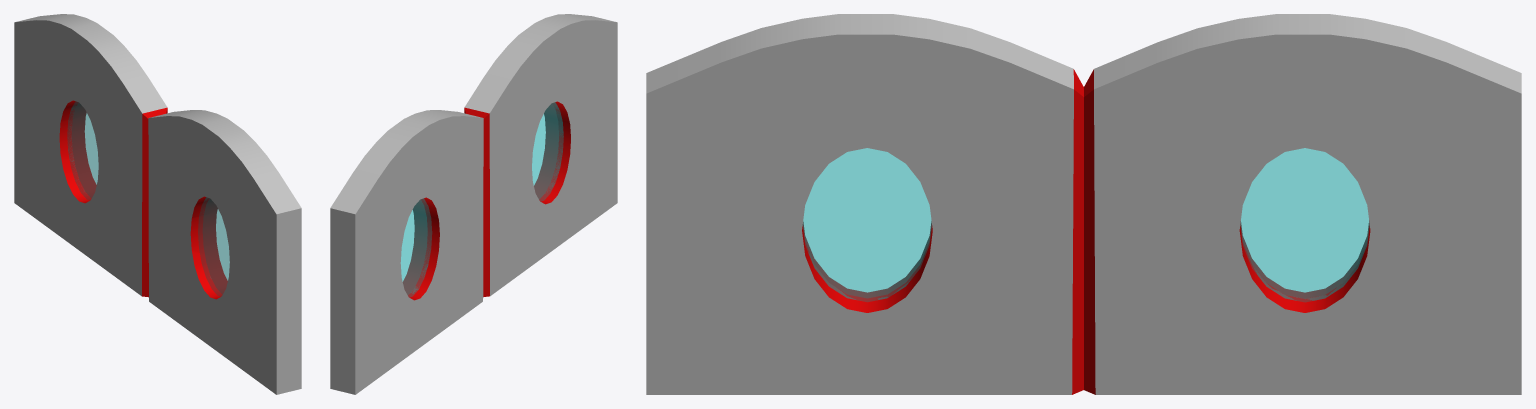
File: gate3.fbx
3 views of the same model, side by side, from view 1: azimuth 30°, elevation 25°; view 2: azimuth 150°, elevation 25°; view 3: azimuth 270°, elevation 25° (orthographic). The views are drawn at different scales.
Visible parts, largest first — view 1: polySurface1, polySurface2, pCylinder2, pCylinder1; view 2: polySurface2, polySurface1, pCylinder2, pCylinder1; view 3: polySurface2, polySurface1, pCylinder1, pCylinder2.
Boxes of the visible parts, bbox=[...] form: polySurface1: bbox=[148, 110, 301, 394]; polySurface2: bbox=[14, 14, 167, 297]; pCylinder2: bbox=[198, 197, 229, 296]; pCylinder1: bbox=[67, 102, 98, 199]; polySurface2: bbox=[330, 110, 483, 394]; polySurface1: bbox=[464, 14, 617, 296]; pCylinder2: bbox=[532, 102, 563, 201]; pCylinder1: bbox=[400, 198, 431, 297]; polySurface2: bbox=[1084, 14, 1521, 394]; polySurface1: bbox=[646, 14, 1083, 394]; pCylinder1: bbox=[1240, 148, 1369, 301]; pCylinder2: bbox=[802, 148, 931, 301].
Size of the model in its own units: 0.2643 by 2.16 by 4.76.
